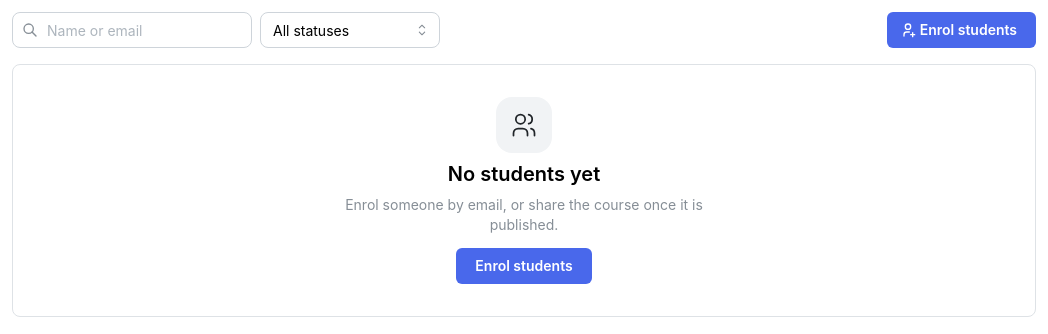
it: StudentsPanel › offers an empty state that distinguishes "none yet" from "none match"
The image size is (1048, 334).
Expected: the heading "No students yet" is shown, [448,161,600,187]
Type "nobody" into the field named "search students". click: (132, 30)
box: [12,12,252,48]
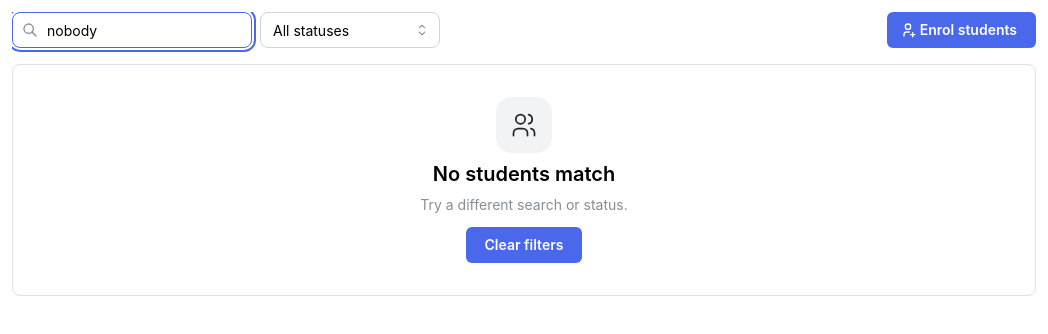
Now the heading "No students match" is shown, box [433,161,615,187]
